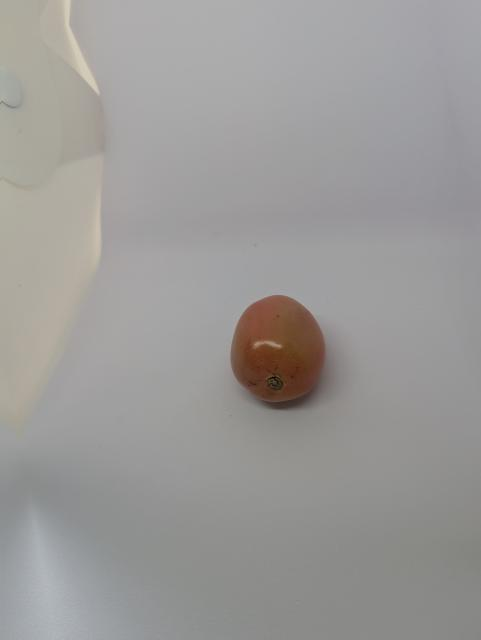turning: (222, 288, 348, 418)
